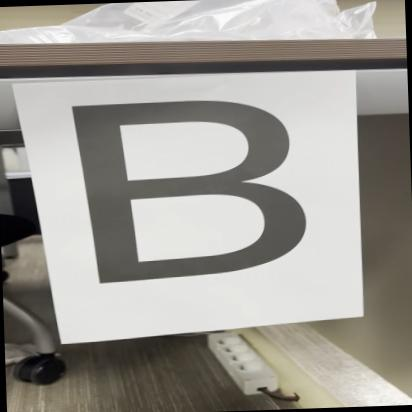seat: (31, 88, 332, 306)
